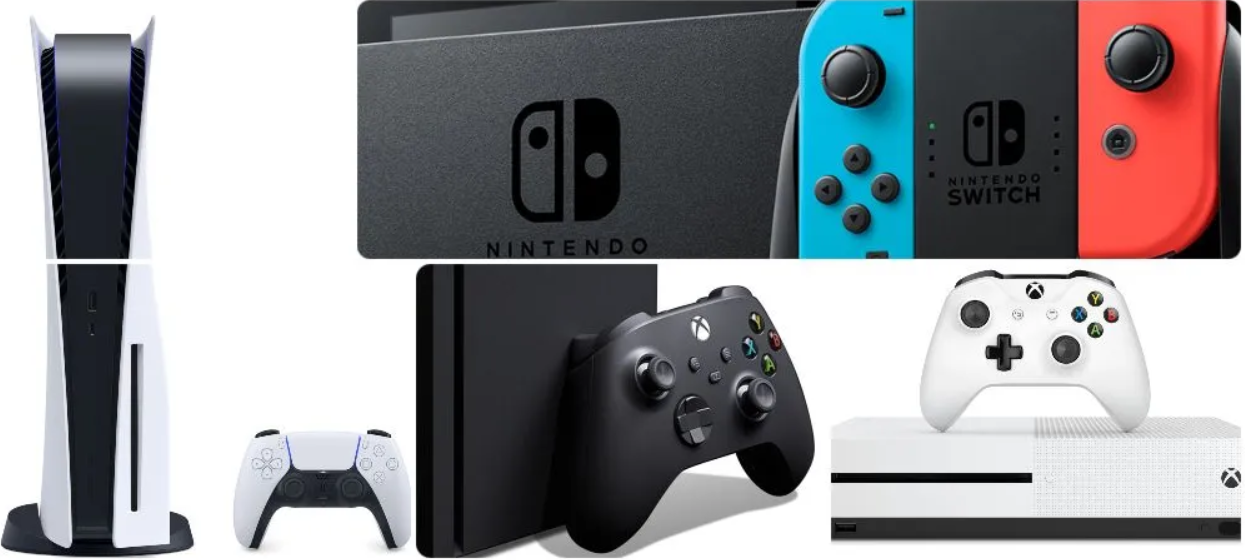gamingconsole: (562, 285, 815, 540), (923, 272, 1150, 433), (238, 428, 409, 559)
